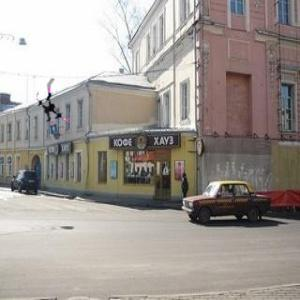drone: (32, 85, 78, 131)
